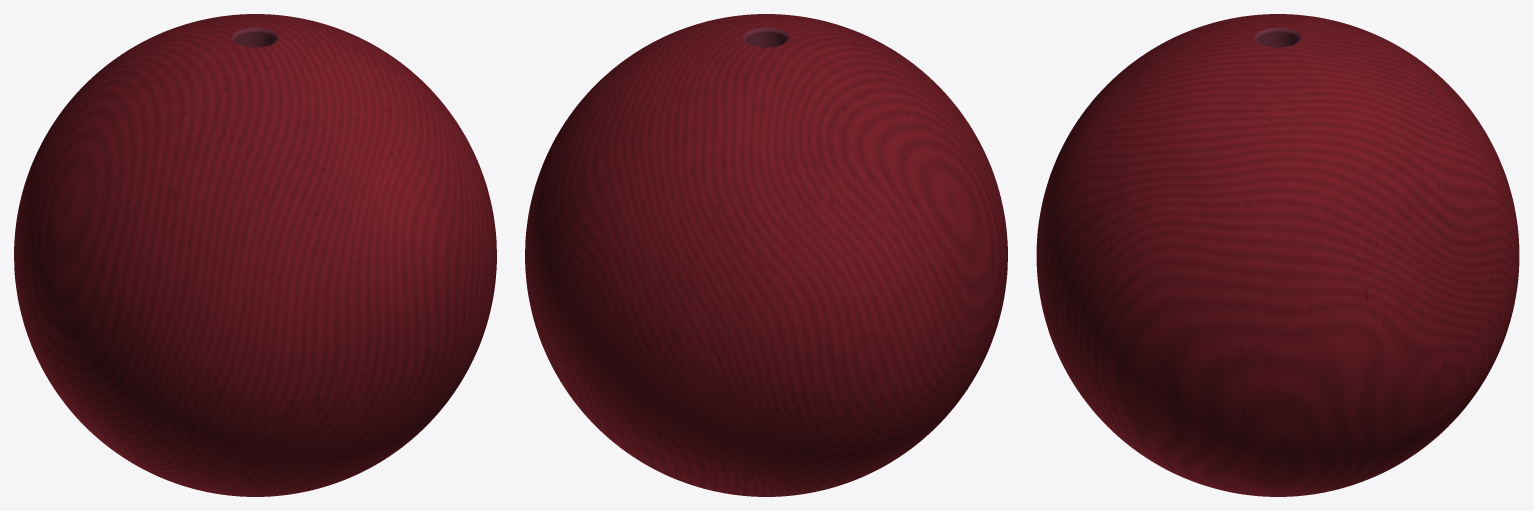
File: wood-blood-sandalwood-12mm.glb
3 renders of one model, left to right at view 1: azimuth 30°, elevation 25°; view 2: azimuth 150°, elevation 25°; view 3: azimuth 270°, elevation 25°, orthographic.
Visible parts, largest first — view 1: blood-sandalwood; view 2: blood-sandalwood; view 3: blood-sandalwood.
Boxes of the visible parts, <box> form: blood-sandalwood: <box>14,14,496,496</box>; blood-sandalwood: <box>525,14,1007,496</box>; blood-sandalwood: <box>1036,14,1519,496</box>.
Size of the model in its own units: 0.012 by 0.0119 by 0.012.
Materials: 2 (1 with a texture image).
